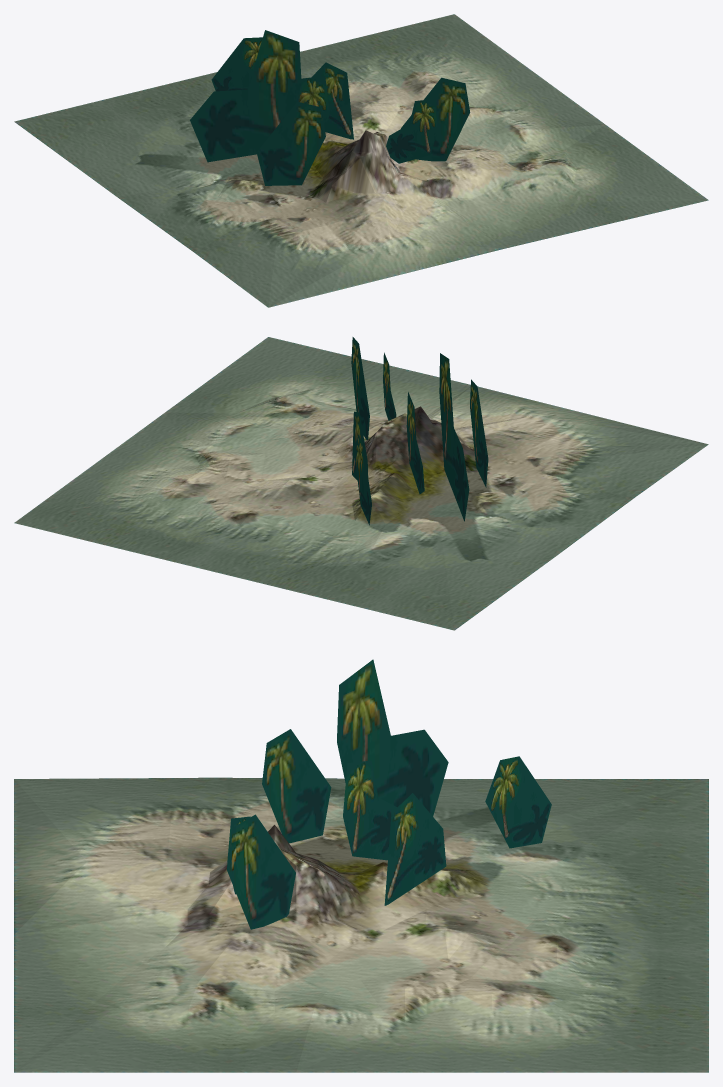
Rendered from F_Island_02.fbx.
The picture shows the model from 3 angles, top to bottom: view 1: azimuth 30°, elevation 25°; view 2: azimuth 150°, elevation 25°; view 3: azimuth 270°, elevation 25°; orthographic projection. The views are drawn at different scales.
Parts seen in each view (by area): view 1: F_Island_02; view 2: F_Island_02; view 3: F_Island_02.
Boxes of the visible parts, x1,y1,x2,y2 form: F_Island_02: [14, 14, 708, 307]; F_Island_02: [14, 337, 708, 630]; F_Island_02: [14, 659, 708, 1072].
Size of the model in its own units: 4 by 1.3 by 4.
1 material, 1 textured.
